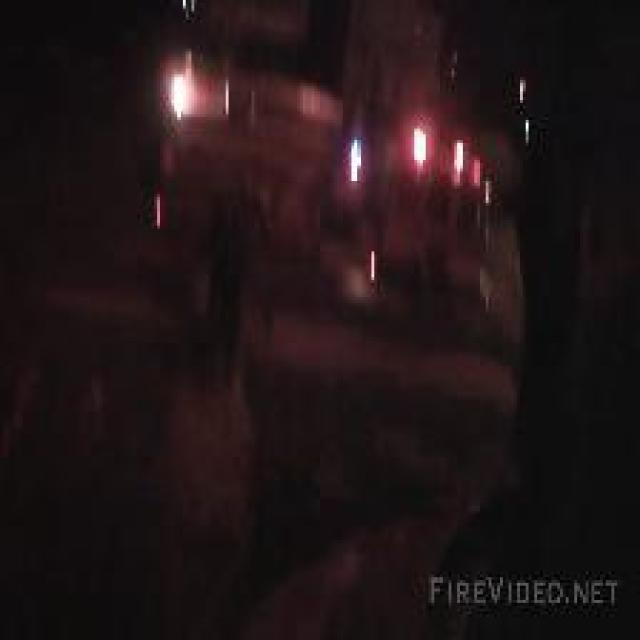other: (391, 114, 491, 204), (158, 50, 206, 134), (329, 137, 367, 185)
